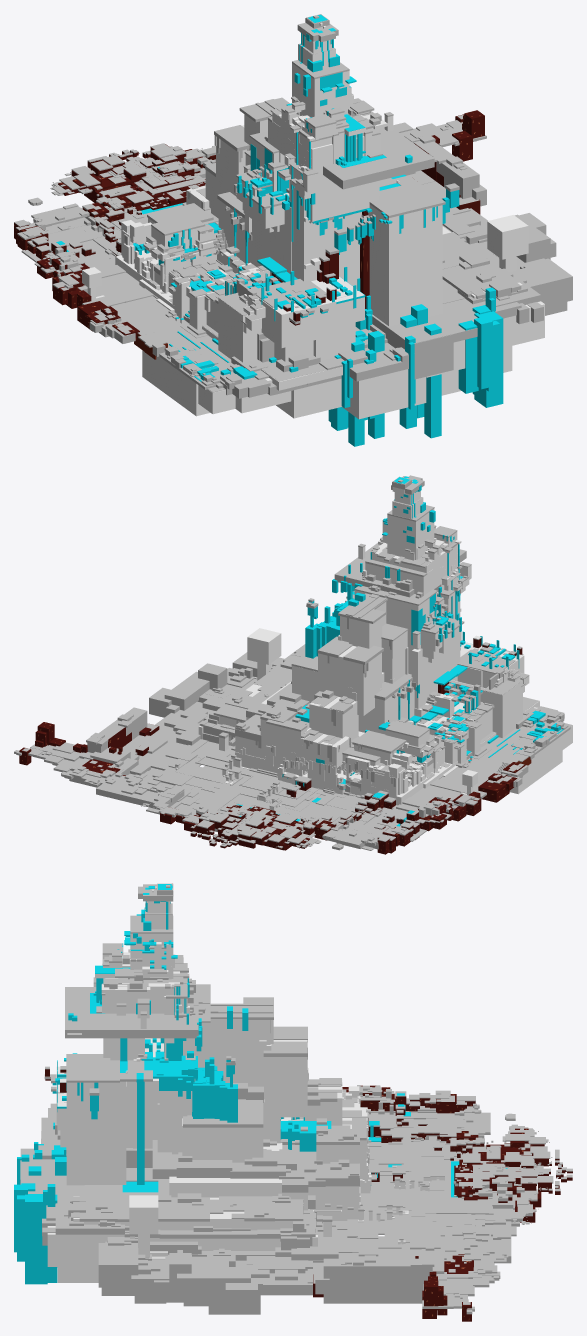
Rendered from CubesParentFinalLevel7.fbx.
3 views of the same model, one above another, from view 1: azimuth 30°, elevation 25°; view 2: azimuth 150°, elevation 25°; view 3: azimuth 270°, elevation 25° (orthographic). The views are drawn at different scales.
Parts seen in each view (by area): view 1: Cube_Ref_Clone__1198, Cube_Ref_Clone__1091, Cube_Ref_Clone__1002, Cube_Ref_Clone__1632, Cube_Ref_Clone__579, Cube_Ref_Clone__461, Cube_Ref_Clone__677, Cube_Ref_Clone__38, Cube_Ref_Clone__1300, Cube_Ref_Clone__1578; view 2: Cube_Ref_Clone__1091, Cube_Ref_Clone__1198, Cube_Ref_Clone__1002, Cube_Ref_Clone__1300, Cube_Ref_Clone__38, Cube_Ref_Clone__1632, Cube_Ref_Clone__142, Cube_Ref_Clone__579, Cube_Ref_Clone__677, Cube_Ref_Clone__1578, Cube_Ref_Clone__461; view 3: Cube_Ref_Clone__1091, Cube_Ref_Clone__1002, Cube_Ref_Clone__1198, Cube_Ref_Clone__1300, Cube_Ref_Clone__38, Cube_Ref_Clone__579, Cube_Ref_Clone__677, Cube_Ref_Clone__142, Cube_Ref_Clone__1578.
Part boxes in pixels (left/top/right/bottom): Cube_Ref_Clone__1198: left=115, top=163, right=477, bottom=446; Cube_Ref_Clone__1091: left=154, top=97, right=459, bottom=428; Cube_Ref_Clone__1002: left=410, top=154, right=572, bottom=407; Cube_Ref_Clone__1632: left=53, top=267, right=234, bottom=416; Cube_Ref_Clone__579: left=270, top=14, right=381, bottom=168; Cube_Ref_Clone__461: left=61, top=271, right=341, bottom=418; Cube_Ref_Clone__677: left=14, top=166, right=147, bottom=262; Cube_Ref_Clone__38: left=87, top=143, right=215, bottom=217; Cube_Ref_Clone__1300: left=393, top=110, right=486, bottom=198; Cube_Ref_Clone__1578: left=34, top=236, right=125, bottom=290; Cube_Ref_Clone__1091: left=225, top=540, right=471, bottom=769; Cube_Ref_Clone__1198: left=235, top=631, right=539, bottom=805; Cube_Ref_Clone__1002: left=117, top=628, right=305, bottom=787; Cube_Ref_Clone__1300: left=14, top=707, right=193, bottom=802; Cube_Ref_Clone__38: left=121, top=779, right=305, bottom=848; Cube_Ref_Clone__1632: left=411, top=721, right=570, bottom=815; Cube_Ref_Clone__142: left=175, top=738, right=408, bottom=812; Cube_Ref_Clone__579: left=371, top=475, right=461, bottom=589; Cube_Ref_Clone__677: left=263, top=802, right=426, bottom=854; Cube_Ref_Clone__1578: left=344, top=790, right=477, bottom=831; Cube_Ref_Clone__461: left=429, top=685, right=572, bottom=800; Cube_Ref_Clone__1091: left=55, top=963, right=363, bottom=1231; Cube_Ref_Clone__1002: left=14, top=1180, right=432, bottom=1314; Cube_Ref_Clone__1198: left=17, top=1060, right=378, bottom=1226; Cube_Ref_Clone__1300: left=323, top=1231, right=511, bottom=1321; Cube_Ref_Clone__38: left=425, top=1146, right=572, bottom=1241; Cube_Ref_Clone__579: left=95, top=883, right=189, bottom=1013; Cube_Ref_Clone__677: left=371, top=1090, right=549, bottom=1172; Cube_Ref_Clone__142: left=342, top=1086, right=449, bottom=1242; Cube_Ref_Clone__1578: left=342, top=1085, right=420, bottom=1146.
Size of the model in its own units: 42694 by 31300 by 43259.
